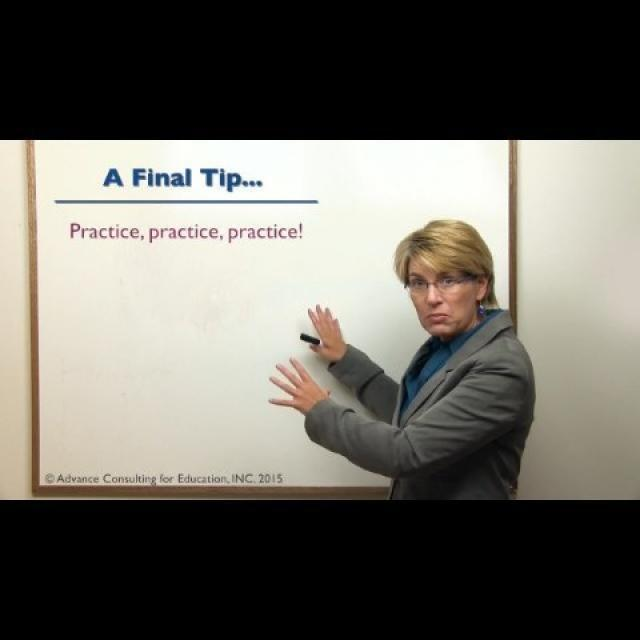Instructor: (355, 210, 533, 500)
White-board: (35, 140, 515, 488)
